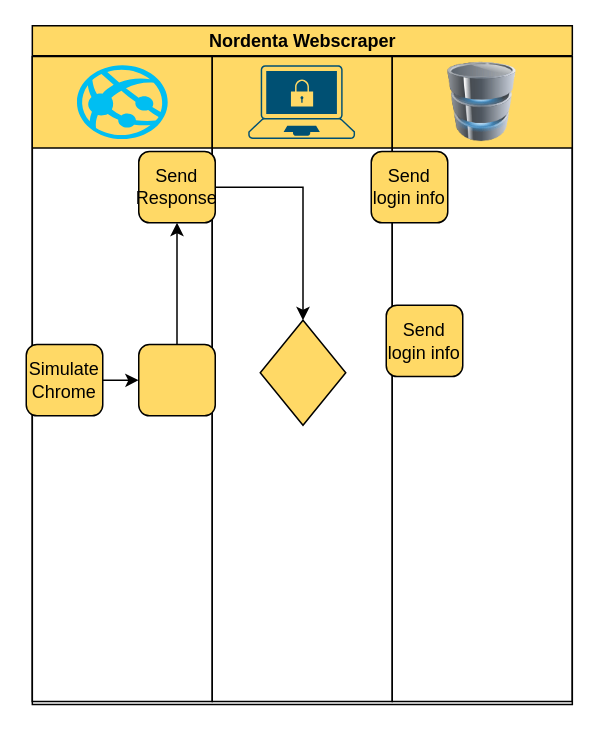
Image size: 600x732. Some labels were removed from this diagram. Here are the shapes that lost their labels. From the top down, the centre of each, then its label:
At point (176, 379): "GET webpage".
At point (302, 372): "Scrape Price?".
